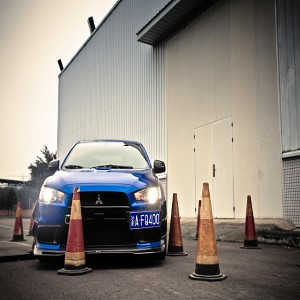traffic cone: (189, 182, 227, 281), (57, 186, 93, 276), (162, 193, 188, 256), (240, 195, 261, 250), (10, 198, 27, 243), (190, 199, 208, 241)
